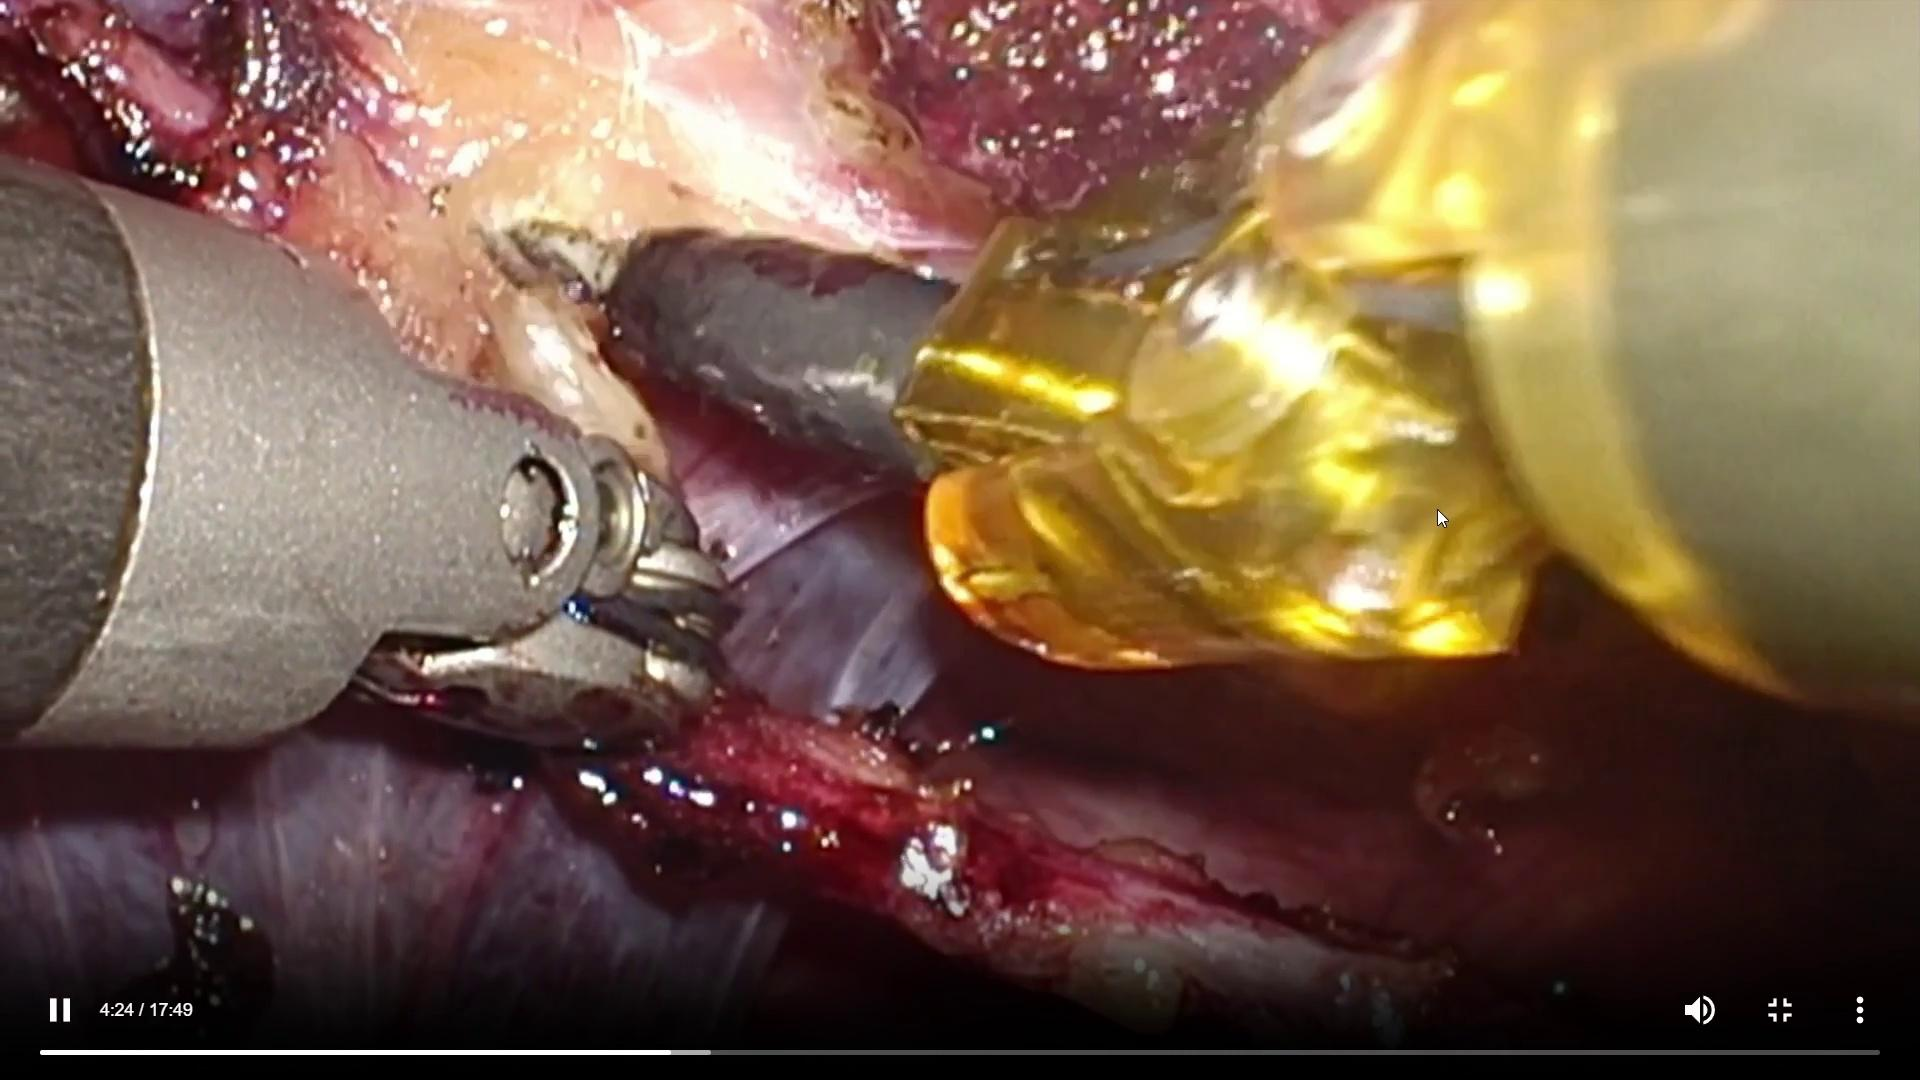Cautery_Spatula: (492, 208, 961, 485)
